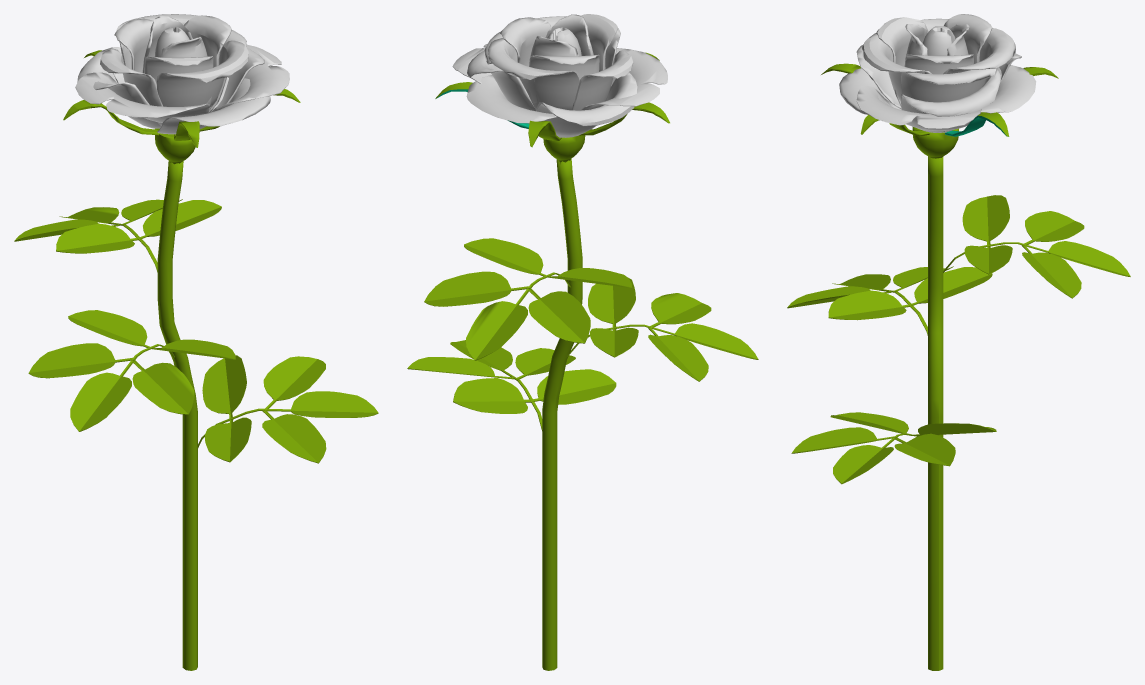
Rendered from flower2.glb.
3 renders of one model, left to right at view 1: azimuth 30°, elevation 25°; view 2: azimuth 150°, elevation 25°; view 3: azimuth 270°, elevation 25°, orthographic.
Visible parts, largest first — view 1: rose.dxf_001; view 2: rose.dxf_001; view 3: rose.dxf_001.
Part boxes in pixels (x1,y1,x2,y2): rose.dxf_001: [14, 14, 378, 670]; rose.dxf_001: [407, 14, 758, 670]; rose.dxf_001: [787, 14, 1130, 670].
Bounding box in the file's own units: 0.2127 × 0.4328 × 0.2124.
